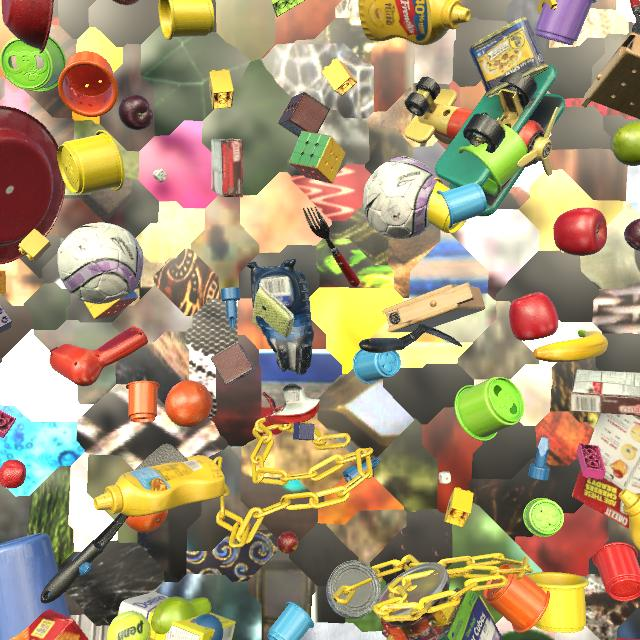ycb_003_cracker_box: (572, 413, 640, 529), (9, 609, 89, 640)
ycb_004_sugar_box: (117, 592, 236, 640)
ycb_006_mustard_bottle: (94, 455, 225, 517), (359, 0, 471, 45), (619, 489, 640, 550)
ycb_007_tuna_fish_can: (326, 560, 381, 619)
ycb_008_pudding_box: (570, 369, 640, 416), (211, 138, 243, 197)
ycb_010_potted_meat_can: (469, 17, 550, 98)
ycb_011_banana: (533, 330, 608, 362)
ycb_012_strawberry: (0, 460, 26, 488)
ycb_013_apple: (553, 207, 607, 256), (509, 292, 559, 341)
ycb_016_pear: (151, 596, 211, 635), (612, 121, 640, 166)
ycb_017_orange: (165, 380, 213, 427), (125, 510, 168, 533), (112, 0, 139, 5)
ycb_018_plum: (119, 95, 153, 130), (624, 219, 640, 251)
